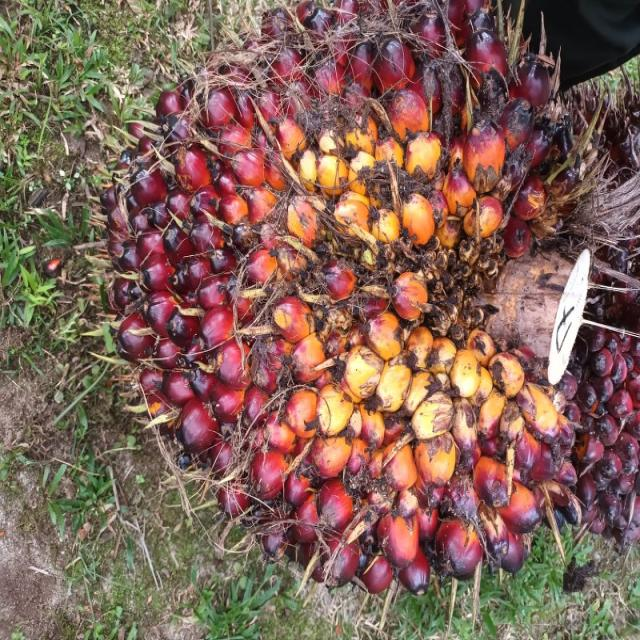fraksi 1: (40, 24, 553, 622)
